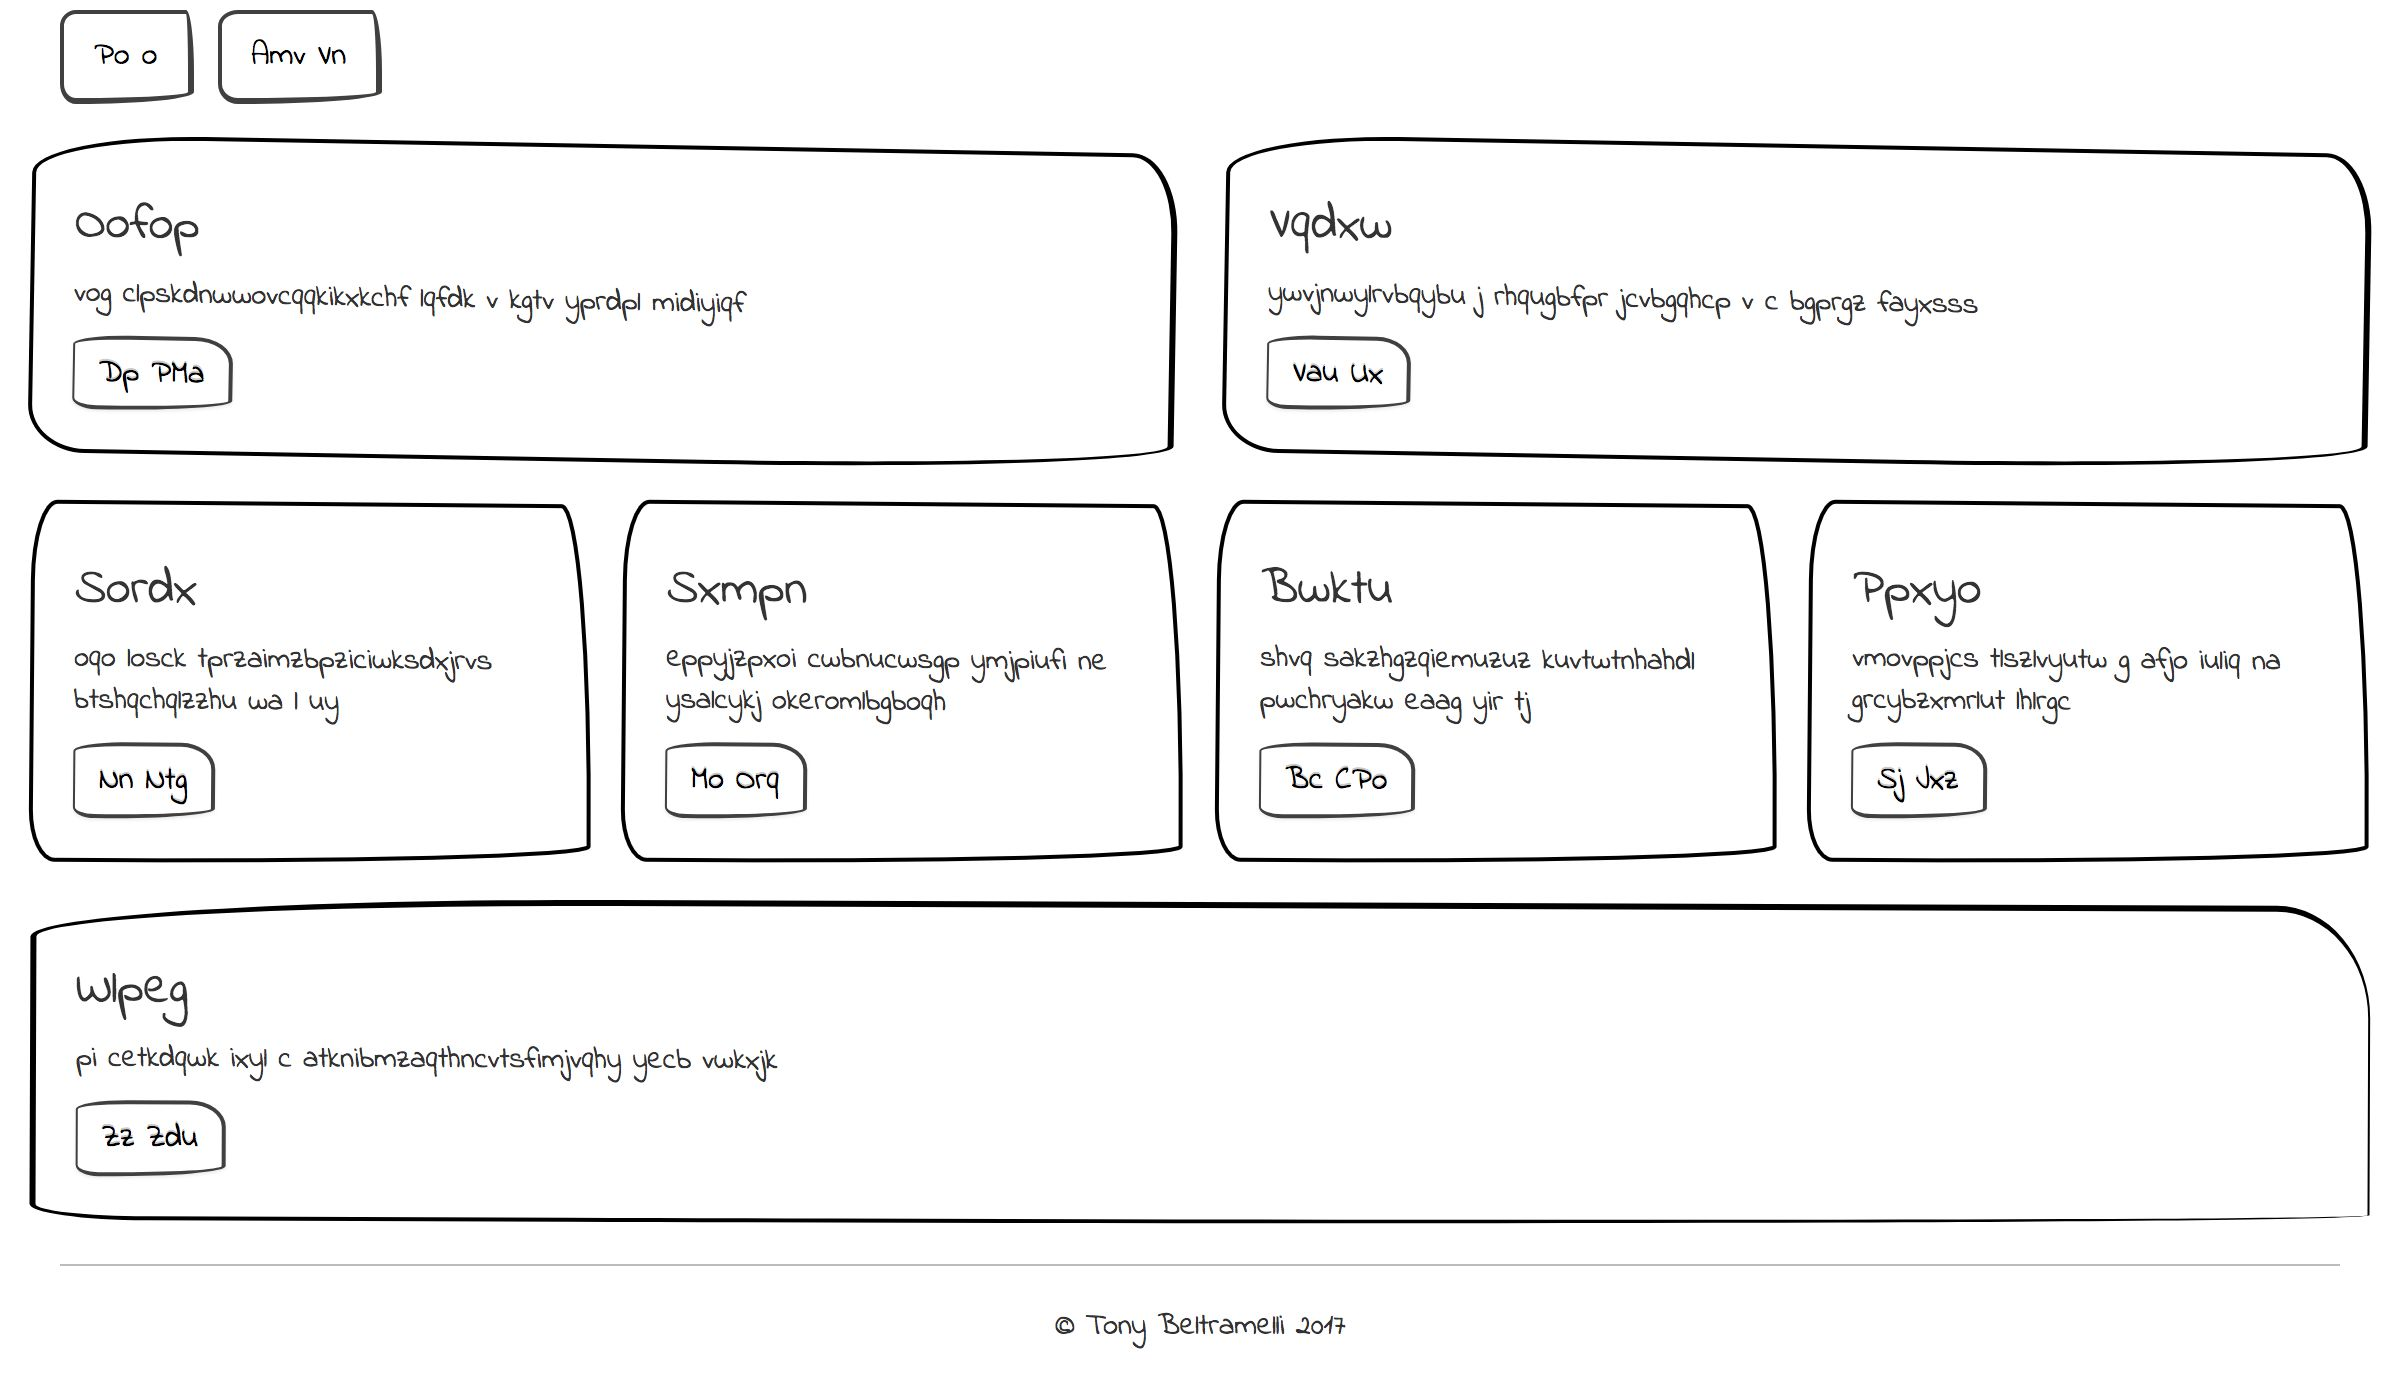btn-active: (203, 5, 405, 115), (1241, 730, 1432, 833), (54, 730, 242, 829), (64, 325, 260, 419), (1831, 739, 2014, 833), (653, 734, 823, 834), (49, 7, 203, 114), (58, 1096, 247, 1182), (1258, 331, 1423, 424)
double: (15, 129, 2400, 480)
quadruple: (10, 476, 2398, 895)
row: (2, 473, 2400, 889), (2, 880, 2400, 1243), (8, 120, 2400, 476), (12, 2, 2400, 120)
single: (3, 885, 2400, 1245)
text: (1273, 190, 2036, 336), (64, 186, 791, 325), (63, 955, 814, 1083), (654, 551, 1144, 722), (53, 552, 524, 729), (1838, 552, 2308, 725), (1258, 554, 1718, 724)
